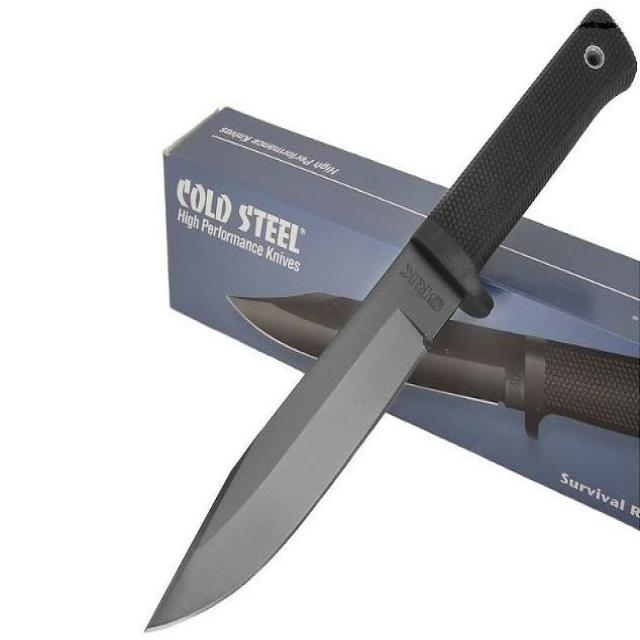knife: (142, 9, 640, 637)
